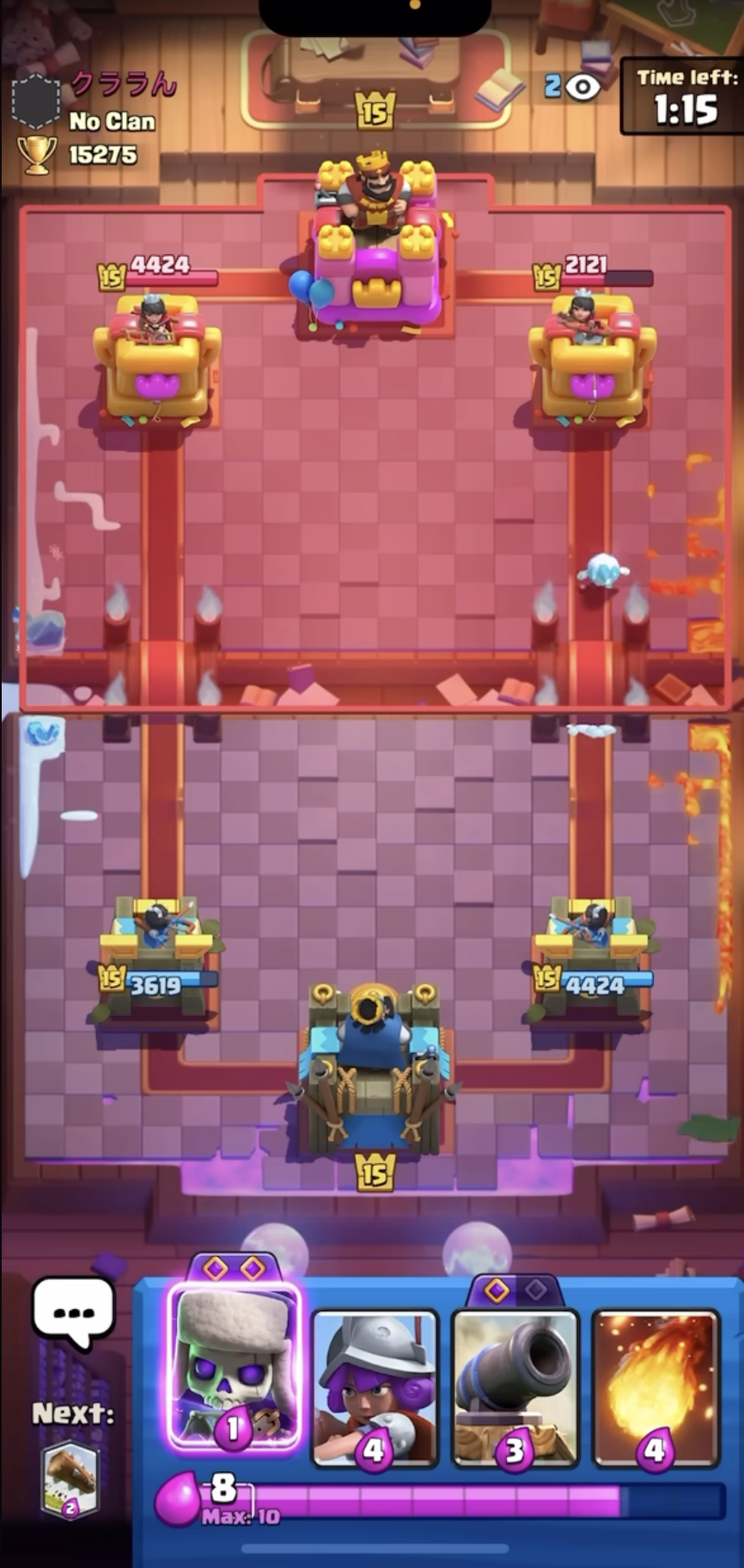ice_spirit: (578, 536, 635, 608)
